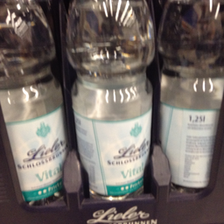water: (66, 1, 154, 197), (1, 1, 67, 204), (157, 1, 224, 194)
